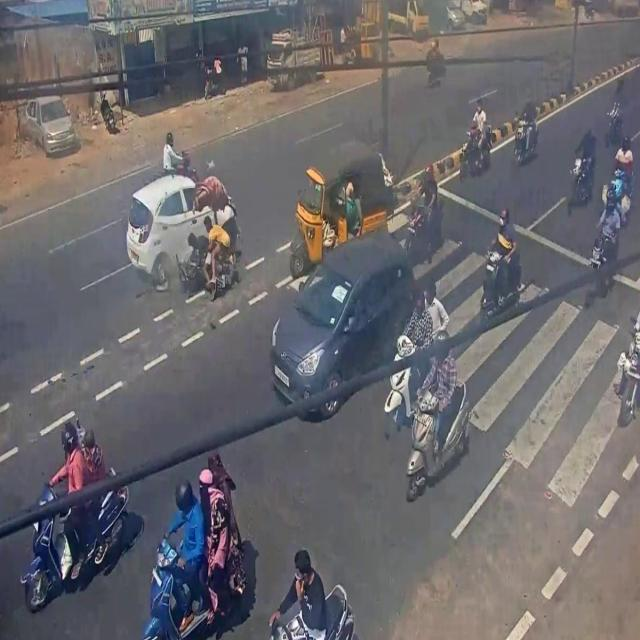accident: (121, 158, 245, 326)
non_accident: (264, 141, 472, 507)
